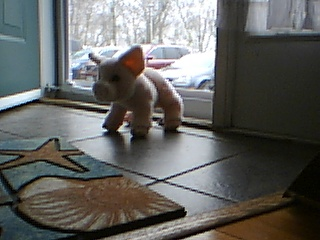piggy: (87, 44, 186, 139)
